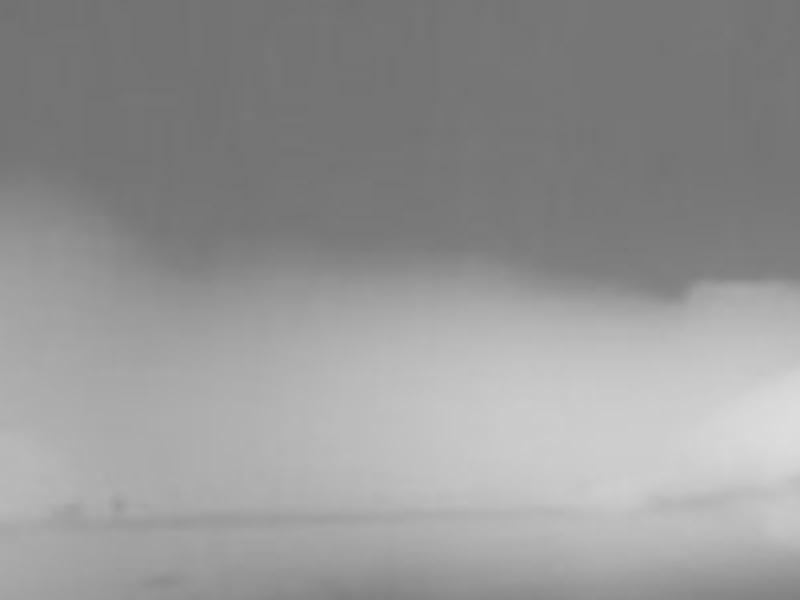defect: (54, 500, 83, 528), (108, 492, 128, 513)
